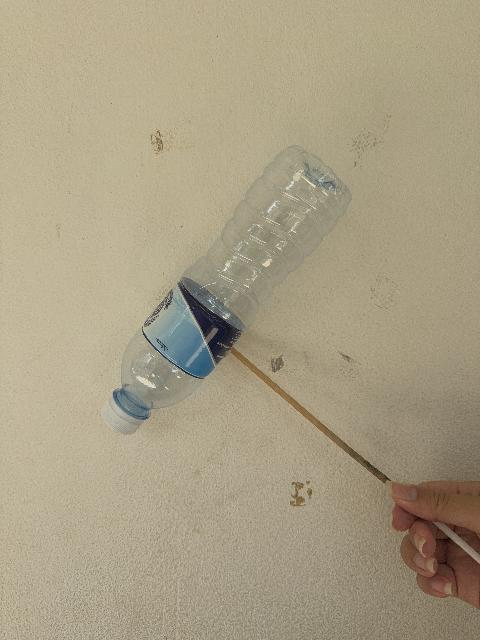bottle: (102, 147, 350, 434)
